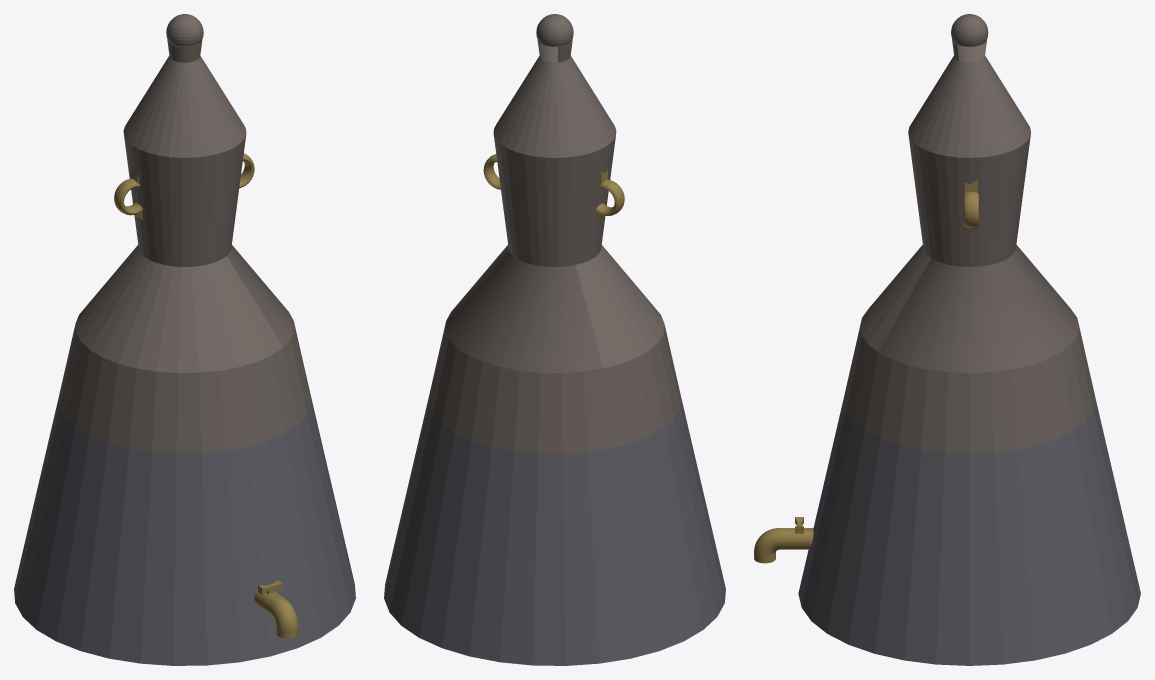
The model's file is récipient gris.glb.
The picture shows the model from 3 angles, left to right: view 1: azimuth 30°, elevation 25°; view 2: azimuth 150°, elevation 25°; view 3: azimuth 270°, elevation 25°; orthographic projection.
Parts seen in each view (by area): view 1: Sphere, Cylinder.002, Poignée.001; view 2: Sphere, Poignée.001; view 3: Sphere, Cylinder.002, Poignée.
Boxes of the visible parts, x1=… form: Sphere: x1=14, y1=14, x2=355, y2=665; Cylinder.002: x1=254, y1=580, x2=298, y2=638; Poignée.001: x1=114, y1=166, x2=142, y2=220; Sphere: x1=384, y1=14, x2=725, y2=665; Poignée.001: x1=593, y1=168, x2=624, y2=224; Sphere: x1=798, y1=14, x2=1140, y2=665; Cylinder.002: x1=754, y1=517, x2=813, y2=563; Poignée: x1=963, y1=179, x2=978, y2=230.
Bounding box in the file's own units: 2.1 × 3.91 × 2.37.
